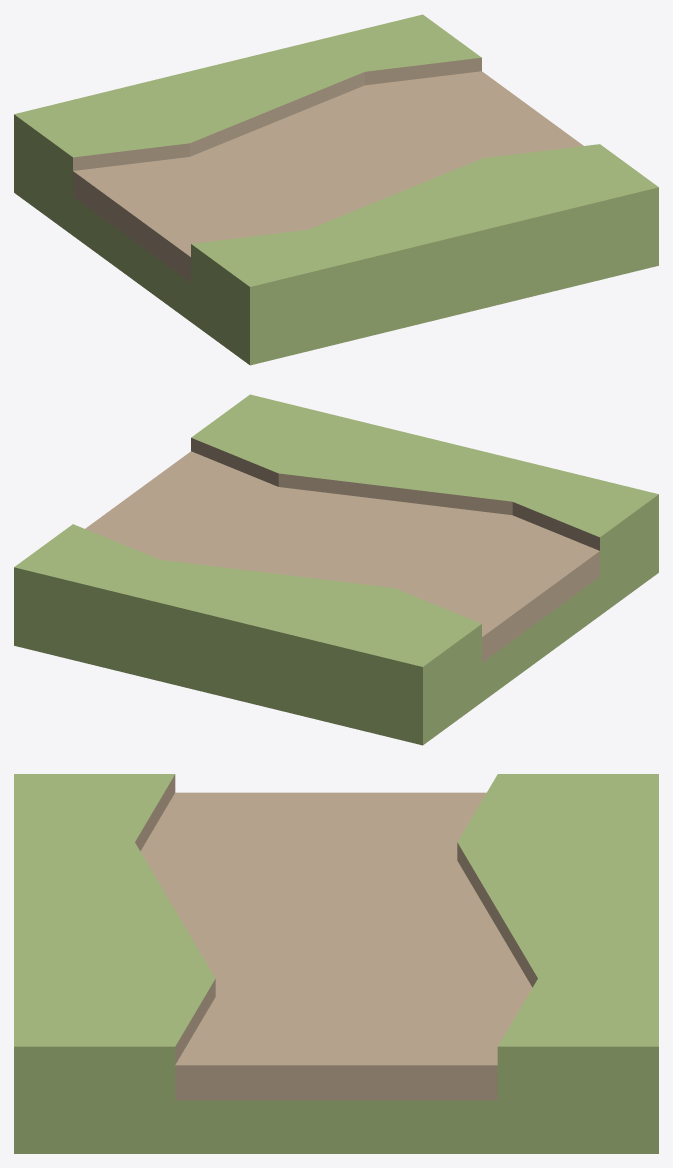
Rendered from SM_GRASS_06.fbx.
The picture shows the model from 3 angles, top to bottom: view 1: azimuth 30°, elevation 25°; view 2: azimuth 150°, elevation 25°; view 3: azimuth 270°, elevation 25°; orthographic projection. The views are drawn at different scales.
Parts seen in each view (by area): view 1: GRASS_06; view 2: GRASS_06; view 3: GRASS_06.
Boxes of the visible parts, box(x1,y1,x2,y2) form: GRASS_06: box(14, 14, 658, 365); GRASS_06: box(14, 394, 658, 745); GRASS_06: box(14, 774, 658, 1153).
Size of the model in its own units: 437 by 80.19 by 437.
